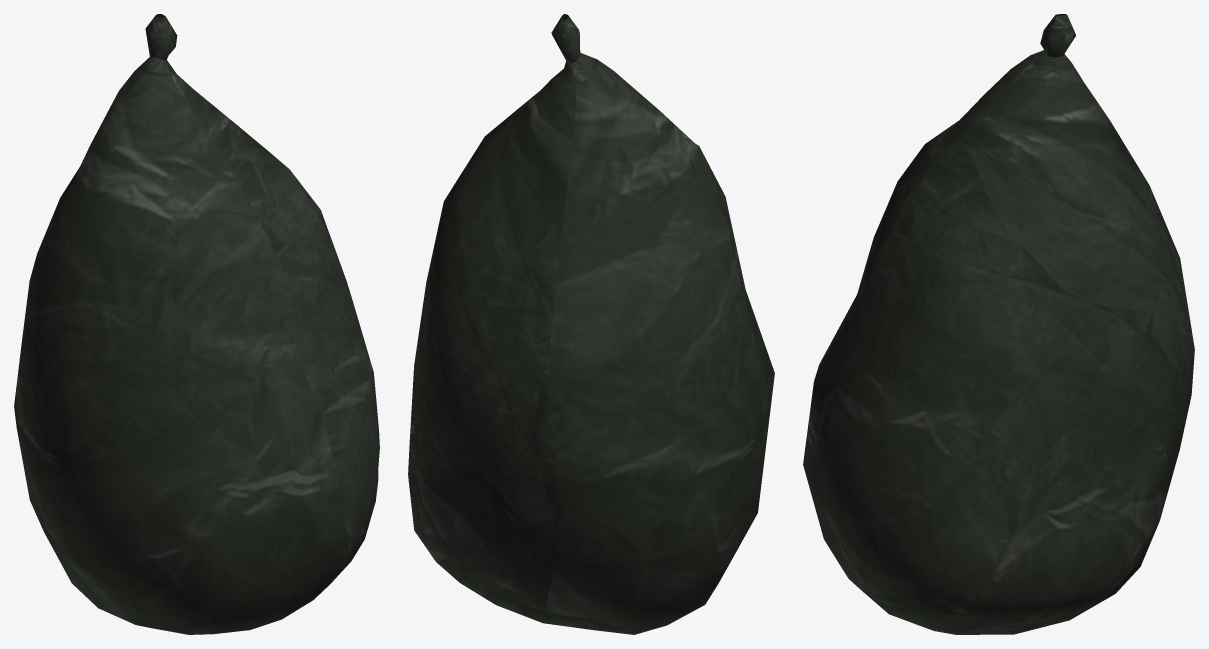
File: TrashBag.FBX
The picture shows the model from 3 angles, left to right: view 1: azimuth 30°, elevation 25°; view 2: azimuth 150°, elevation 25°; view 3: azimuth 270°, elevation 25°; orthographic projection. The views are drawn at different scales.
Visible parts, largest first — view 1: TrashBag; view 2: TrashBag; view 3: TrashBag.
Boxes of the visible parts, x1=… form: TrashBag: x1=14, y1=14, x2=379, y2=634; TrashBag: x1=408, y1=14, x2=774, y2=634; TrashBag: x1=803, y1=14, x2=1194, y2=634.
Bounding box in the file's own units: 13.24 × 24 × 14.23.
Materials: 1 (1 with a texture image).
